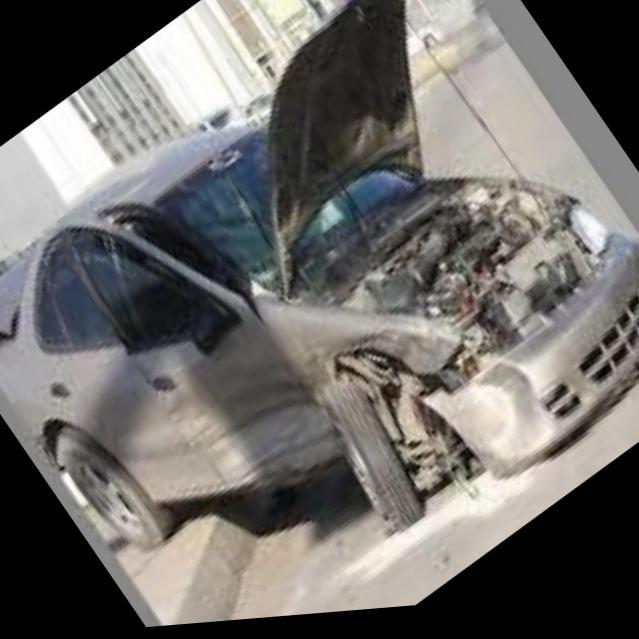no part: (291, 187, 639, 488)
rub: (143, 325, 344, 500)
